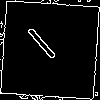I: (25, 25, 65, 69)
